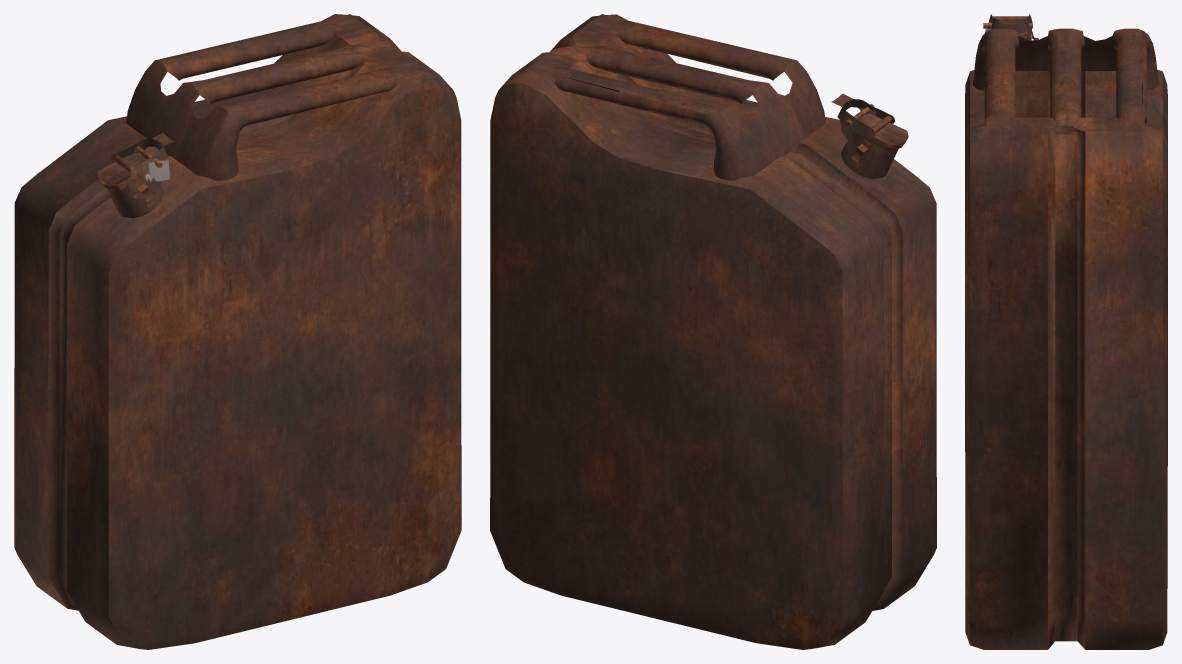
File: jerry_can_01.glb
3 views of the same model, side by side, from view 1: azimuth 30°, elevation 25°; view 2: azimuth 150°, elevation 25°; view 3: azimuth 270°, elevation 25° (orthographic). The views are drawn at different scales.
Parts seen in each view (by area): view 1: jerry_can_01; view 2: jerry_can_01; view 3: jerry_can_01.
Boxes of the visible parts, x1=… form: jerry_can_01: x1=14, y1=14, x2=461, y2=649; jerry_can_01: x1=490, y1=14, x2=936, y2=649; jerry_can_01: x1=965, y1=14, x2=1167, y2=649.
Size of what is drawn, in the model's own units: 0.3432 by 0.47 by 0.1627.
Materials: 1 (1 with a texture image).
